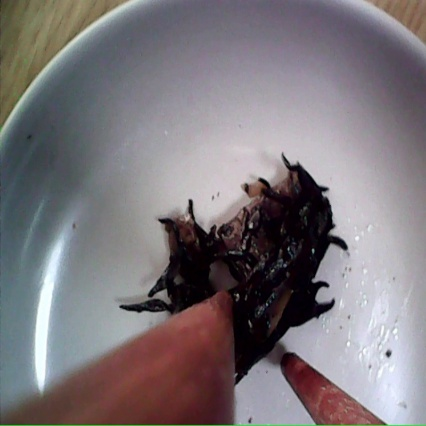black_hijiki: (116, 145, 344, 388)
